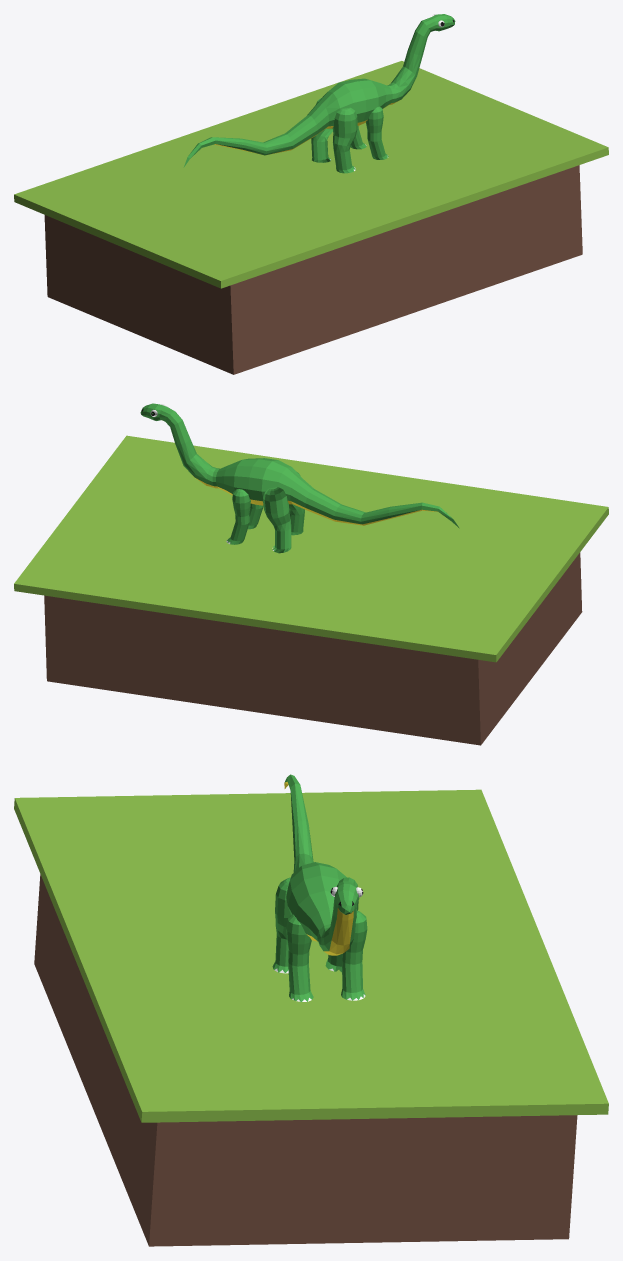
Rendered from dilophosaurus.glb.
3 views of the same model, one above another, from view 1: azimuth 30°, elevation 25°; view 2: azimuth 150°, elevation 25°; view 3: azimuth 270°, elevation 25° (orthographic). The views are drawn at different scales.
Visible parts, largest first — view 1: Node; view 2: Node; view 3: Node.
Part boxes in pixels (box(x1,y1,x2,y2)): Node: box(14, 14, 608, 374); Node: box(14, 403, 608, 745); Node: box(14, 774, 608, 1246).
Bounding box in the file's own units: 8.16 × 3.66 × 5.97.
